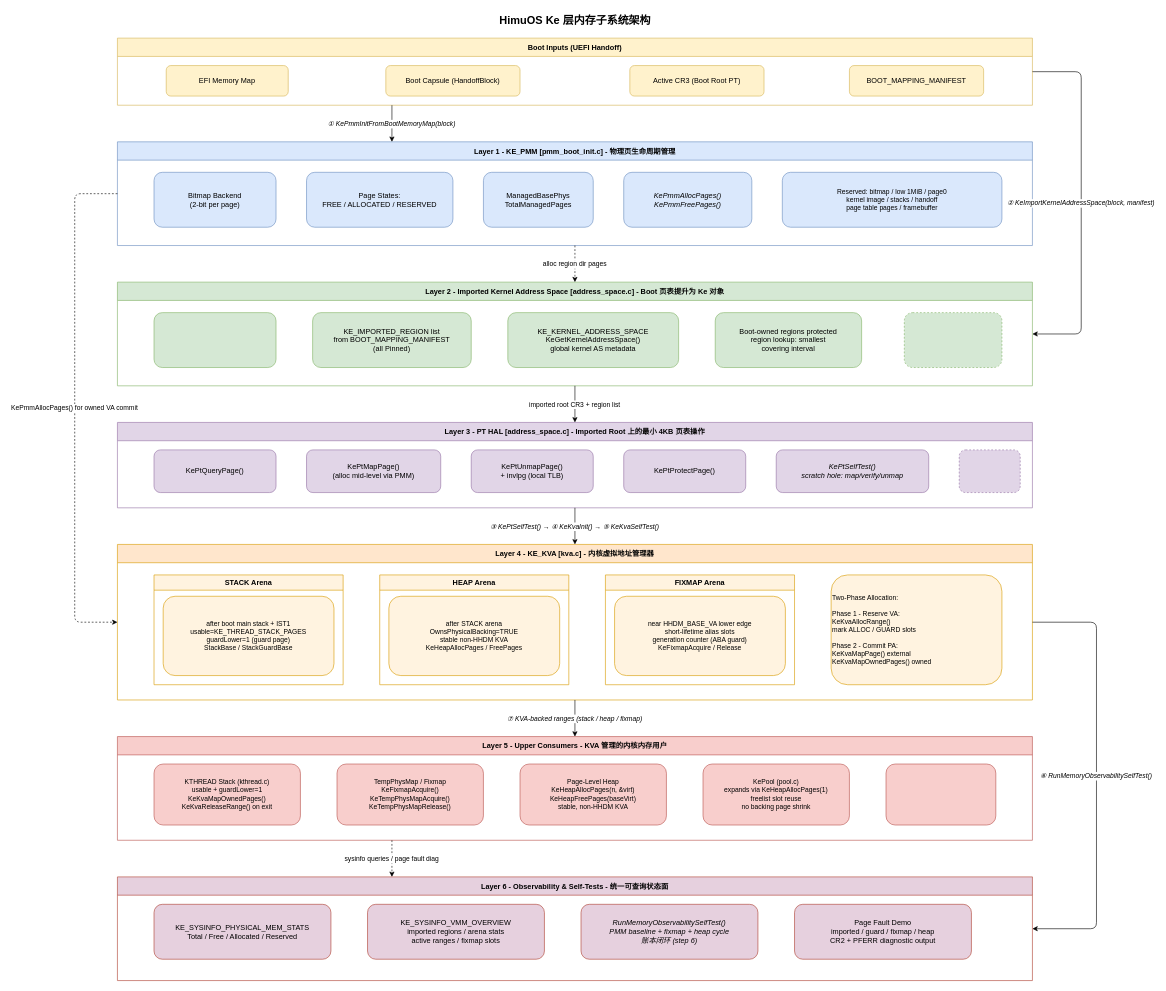
The diagram is 1166 pixels wide and 991 high, and some of its shapes have lost their labels. The shapes that lost their labels are listed below. From the top down, each one's centre as x and y in pixels, then its label:
At [214,340]: "Read CR3 + verify vs Boot Capsule".
At [953,340]: "HHDM (controlled escape)".
At [989,471]: "4KB only; detects 2MB/1GB but does NOT split large pages".
At [940,794]: "KTHREAD Pool KeKThreadPoolInit() depends on KePool initialized last (step 7)".
